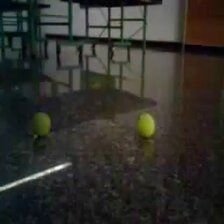tennis: (30, 111, 52, 138), (137, 112, 156, 139)
